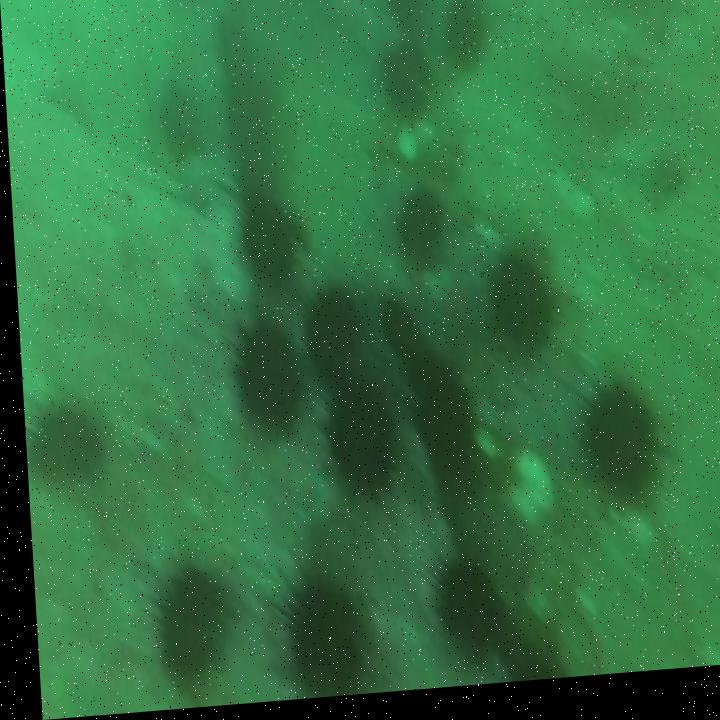echinus: (580, 392, 651, 510), (282, 584, 352, 700), (154, 569, 220, 689), (323, 387, 391, 493), (404, 349, 465, 466), (227, 333, 292, 440), (431, 562, 493, 667), (300, 286, 362, 385), (27, 404, 95, 488), (488, 265, 546, 355), (237, 206, 292, 291), (388, 193, 444, 269), (382, 49, 435, 118), (441, 9, 482, 79), (378, 304, 412, 366)
scallop: (392, 129, 415, 166)
